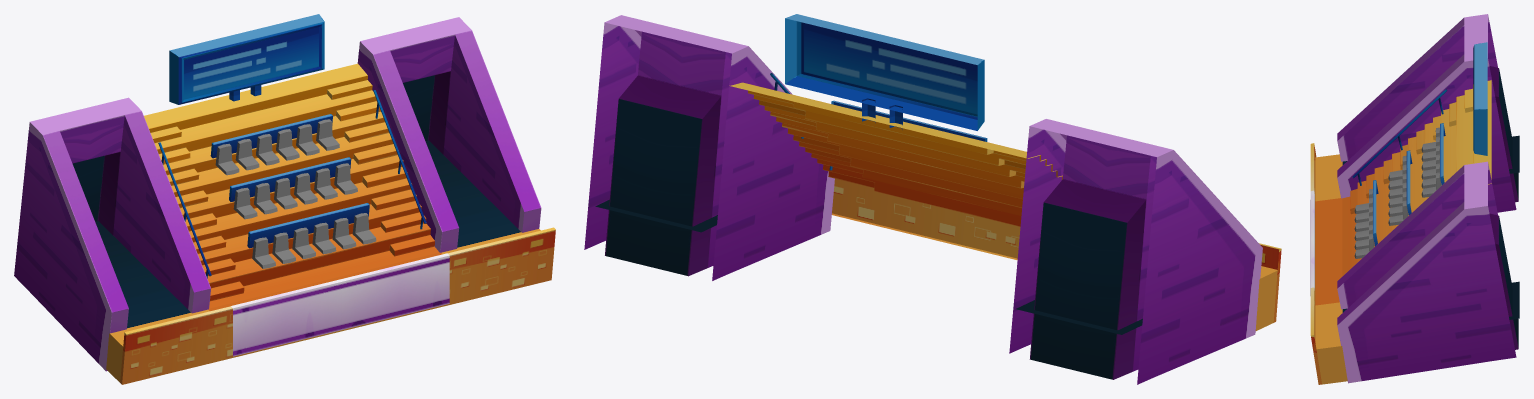
Rendered from Cenario.FBX.
3 renders of one model, left to right at view 1: azimuth 30°, elevation 25°; view 2: azimuth 150°, elevation 25°; view 3: azimuth 270°, elevation 25°, orthographic. The views are drawn at different scales.
Parts seen in each view (by area): view 1: Arquibancada, Scoreboard, Bandeirao, Box011, Box009, Box012, Box003, Box007, Box010, Box015, Box017, Box018 (+9 smaller); view 2: Arquibancada, Scoreboard; view 3: Arquibancada, Scoreboard, Bandeirao, Box012, Box018, Box006.
Part boxes in pixels (x1,y1,x2,y2): Arquibancada: [14, 17, 555, 384]; Scoreboard: [169, 14, 369, 248]; Bandeirao: [231, 253, 449, 356]; Box011: [314, 168, 337, 199]; Box009: [274, 178, 297, 209]; Box012: [334, 163, 357, 194]; Box003: [292, 227, 315, 259]; Box007: [233, 187, 257, 219]; Box010: [294, 173, 317, 204]; Box015: [256, 134, 279, 165]; Box017: [296, 124, 319, 155]; Box018: [316, 119, 339, 150]; Arquibancada: [584, 15, 1281, 384]; Scoreboard: [785, 14, 987, 141]; Arquibancada: [1310, 14, 1519, 384]; Scoreboard: [1373, 42, 1487, 246]; Bandeirao: [1310, 190, 1314, 295]; Box012: [1388, 200, 1407, 225]; Box018: [1421, 172, 1440, 197]; Box006: [1354, 233, 1373, 258].
Size of the model in its own units: 1942 by 1006 by 896.
